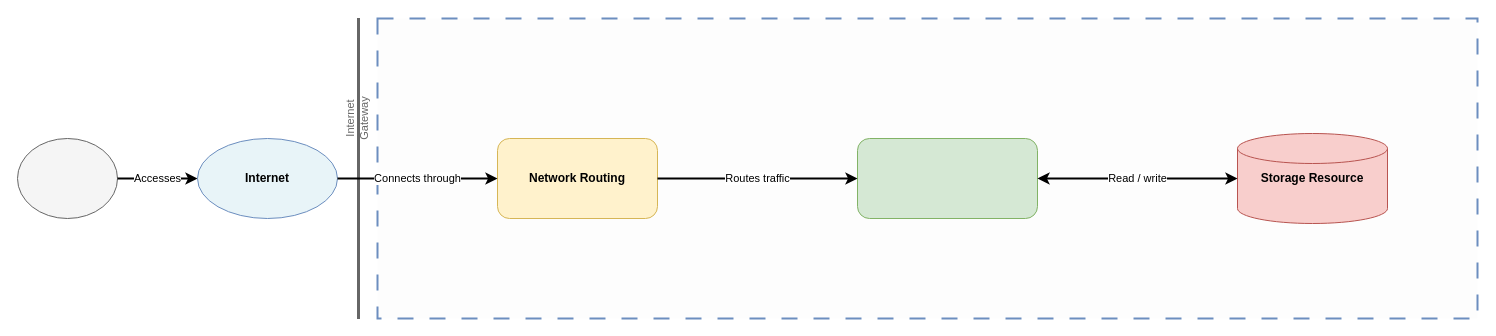
The diagram is 1496 pixels wide and 336 high, and some of its shapes have lost their labels. The shapes that lost their labels are listed below. From the top down, each one's box as (x1, y1, x2, y2) in pixels, then its label:
(16, 138, 118, 218): User
(856, 138, 1038, 218): Compute Resource Virtual Machine
